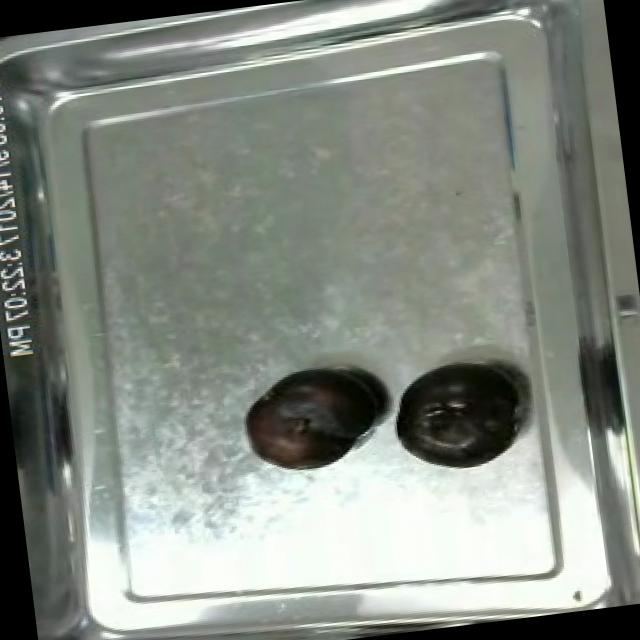Fruit: (232, 358, 388, 480), (383, 350, 528, 480)
